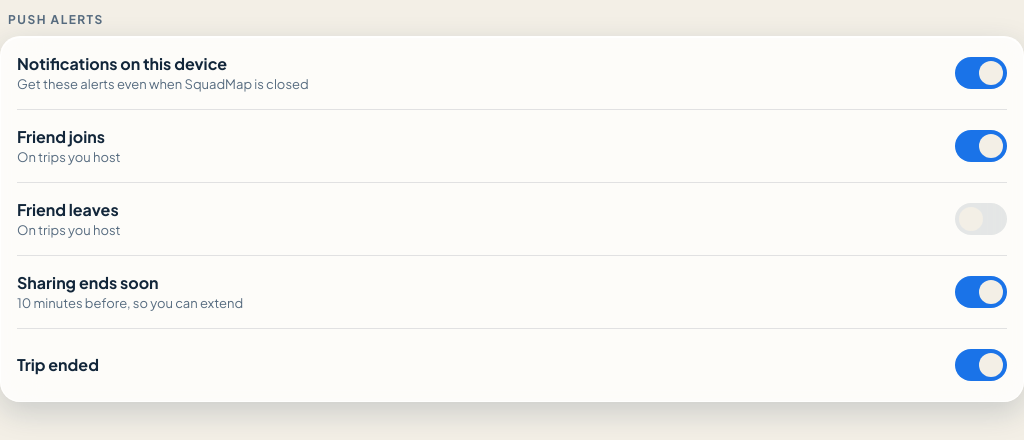
Test: Push alerts on the Alerts screen › turns them off here and on the server
The width and height of the screenshot is (1024, 440).
Step 1. Click the switch labelled "Notifications on this device" → click(122, 64), box [17,51,1007,95]
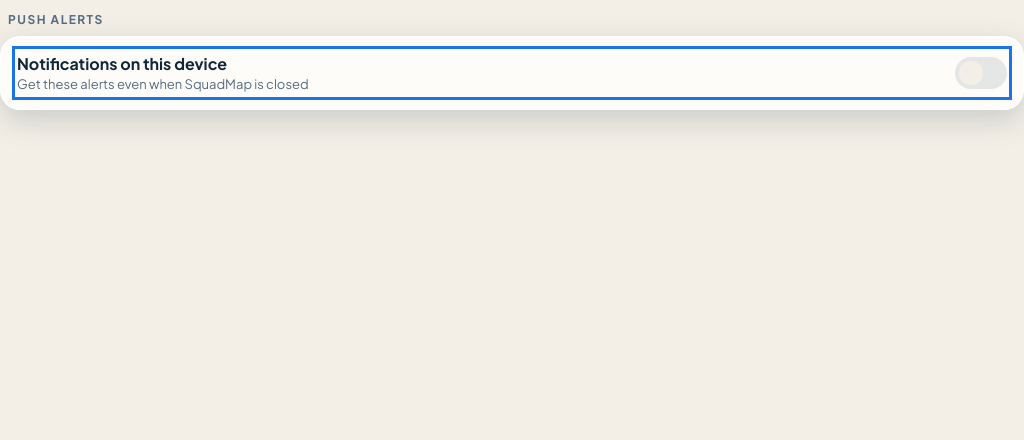
Check: the switch labelled "Notifications on this device" is not checked, box [17,51,1007,95]
